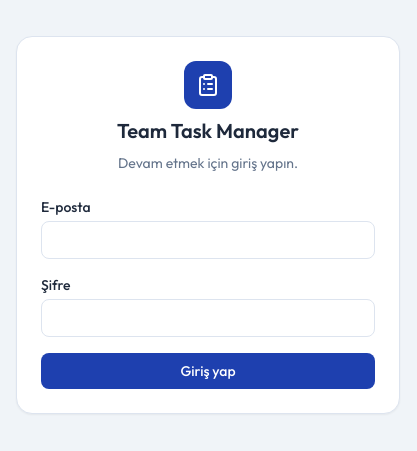
Test: LoginPage › boş formda doğrulama mesajları gösterir
This screenshot has width=417, height=451.
What coordinates should you click on to do the following:
click the button "Giriş yap"
I would click on:
 (208, 371)
Its box is x1=41 y1=353 x2=375 y2=389.
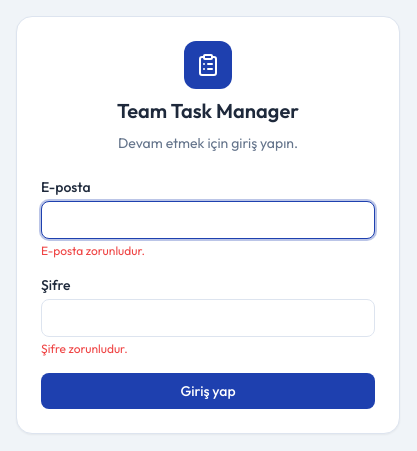
Expected: the text "E-posta zorunludur." is shown, x1=41 y1=243 x2=145 y2=258
Expected: the text "Şifre zorunludur." is shown, x1=41 y1=341 x2=128 y2=356
